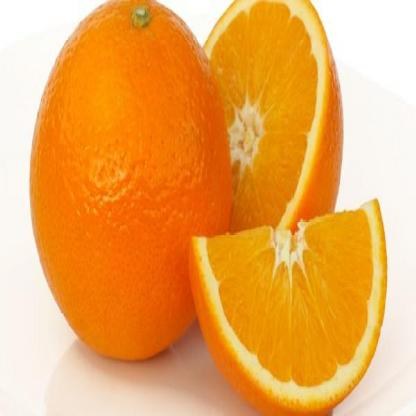orange: (25, 0, 238, 387)
